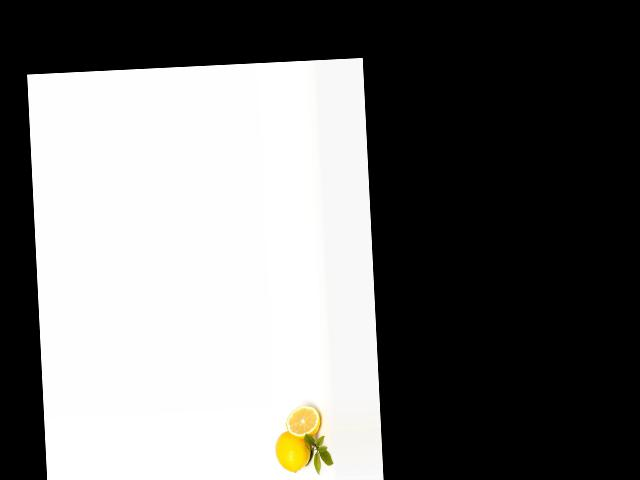lemon: (272, 430, 310, 477)
